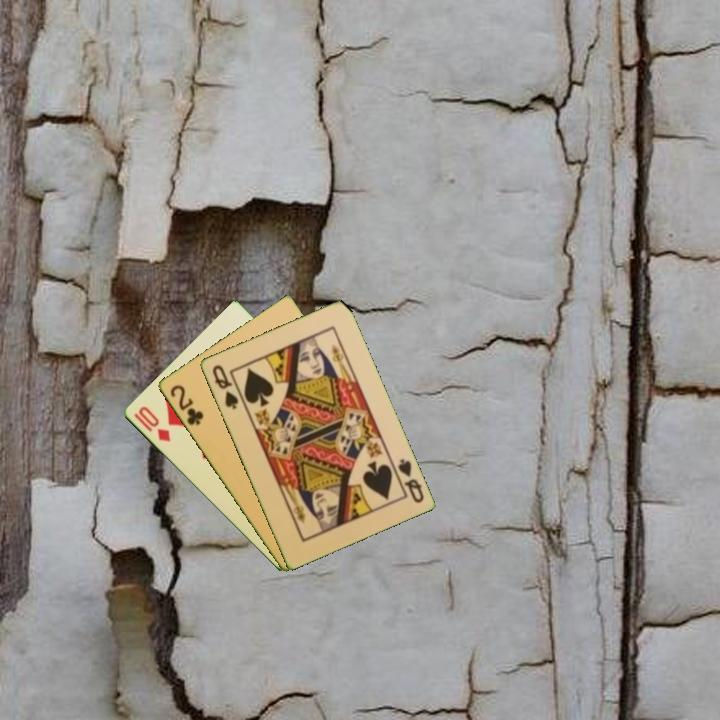10d: (130, 402, 173, 445)
2c: (166, 381, 206, 428)
Qs: (388, 455, 426, 506), (208, 361, 241, 412)
